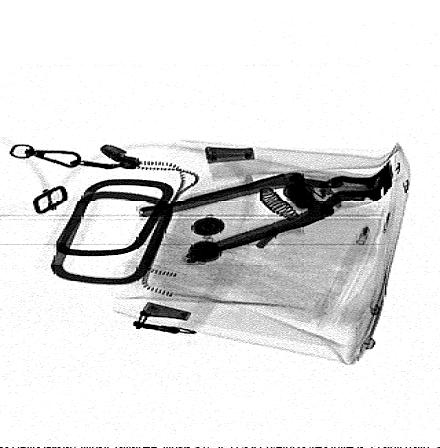Pliers: (137, 162, 396, 265)
